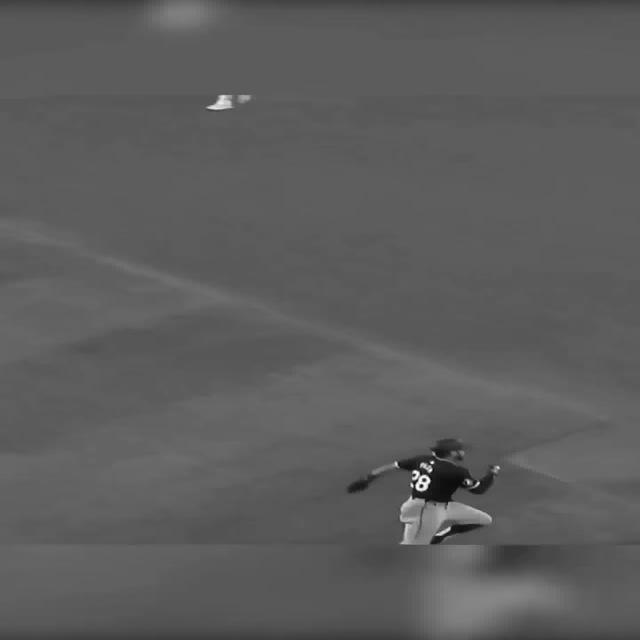shoe: (204, 94, 252, 110)
